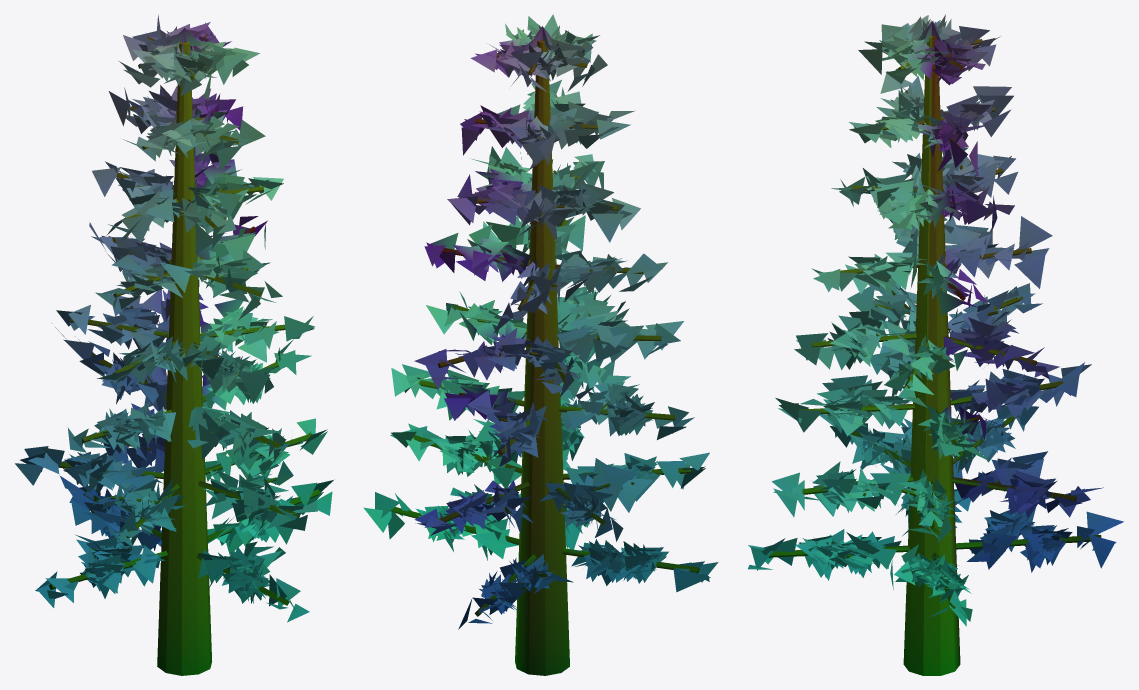
Rendered from ecological_conifer_established_02.glb.
The picture shows the model from 3 angles, left to right: view 1: azimuth 30°, elevation 25°; view 2: azimuth 150°, elevation 25°; view 3: azimuth 270°, elevation 25°; orthographic projection.
Parts seen in each view (by area): view 1: ecological_conifer_established_02; view 2: ecological_conifer_established_02; view 3: ecological_conifer_established_02.
Boxes of the visible parts, box(x1,y1,x2,y2) form: ecological_conifer_established_02: box(15, 14, 334, 675); ecological_conifer_established_02: box(363, 14, 718, 675); ecological_conifer_established_02: box(748, 14, 1123, 675).
Size of the model in its own units: 10.65 by 20.4 by 10.83.
